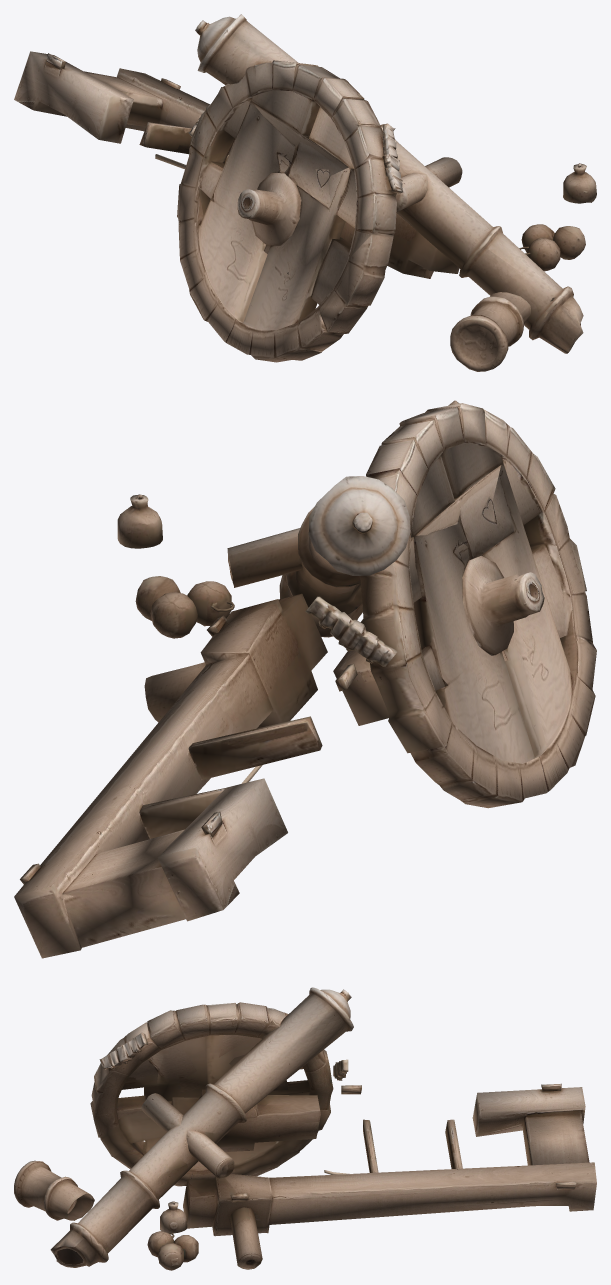
File: rusty artillery cannon 3d model.glb
3 renders of one model, top to bottom at view 1: azimuth 30°, elevation 25°; view 2: azimuth 150°, elevation 25°; view 3: azimuth 270°, elevation 25°, orthographic. The views are drawn at different scales.
Visible parts, largest first — view 1: tripo_node_4bfdc9ce-0346-4be8-bad9-5b8da89a19a9; view 2: tripo_node_4bfdc9ce-0346-4be8-bad9-5b8da89a19a9; view 3: tripo_node_4bfdc9ce-0346-4be8-bad9-5b8da89a19a9.
Part boxes in pixels (x1,y1,x2,y2): tripo_node_4bfdc9ce-0346-4be8-bad9-5b8da89a19a9: [14, 14, 596, 371]; tripo_node_4bfdc9ce-0346-4be8-bad9-5b8da89a19a9: [14, 400, 596, 958]; tripo_node_4bfdc9ce-0346-4be8-bad9-5b8da89a19a9: [14, 987, 596, 1270].
Size of the model in its own units: 0.5449 by 0.4082 by 0.998.
Materials: 1 (1 with a texture image).
